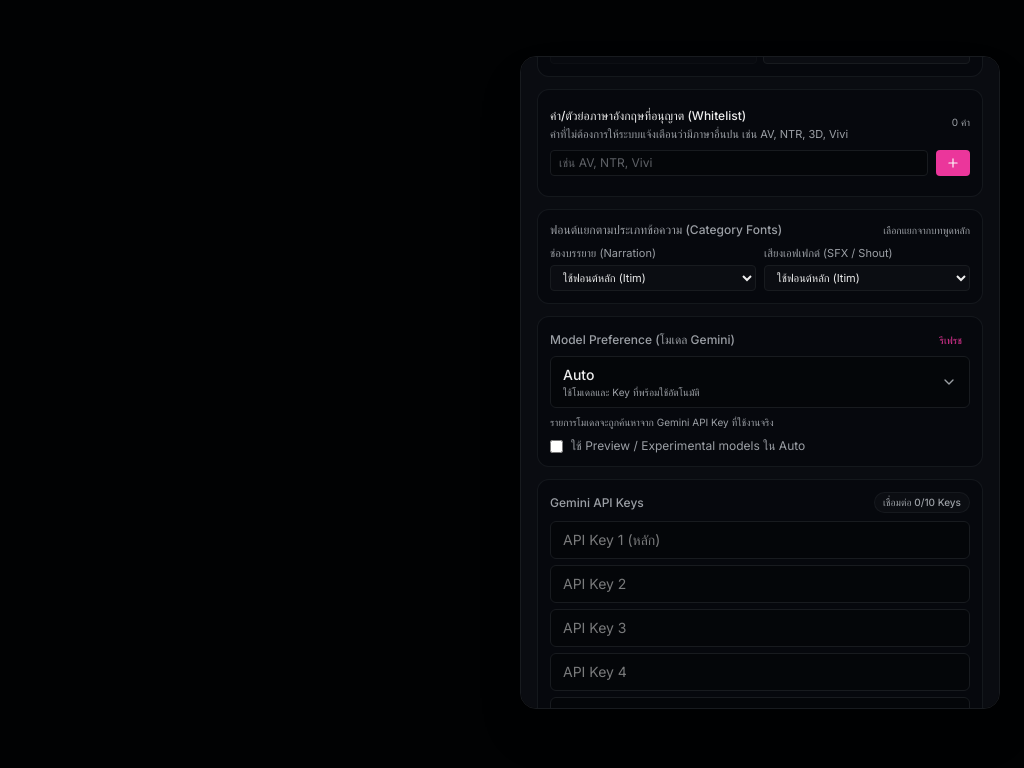
Test: SettingsModal dynamic Gemini catalog › offers only currently eligible image translation models for Manual selection
The image size is (1024, 768).
(page scrolled)
Click the button with aria-label "Model Preference". click: (579, 374)
box: [550,356,970,408]
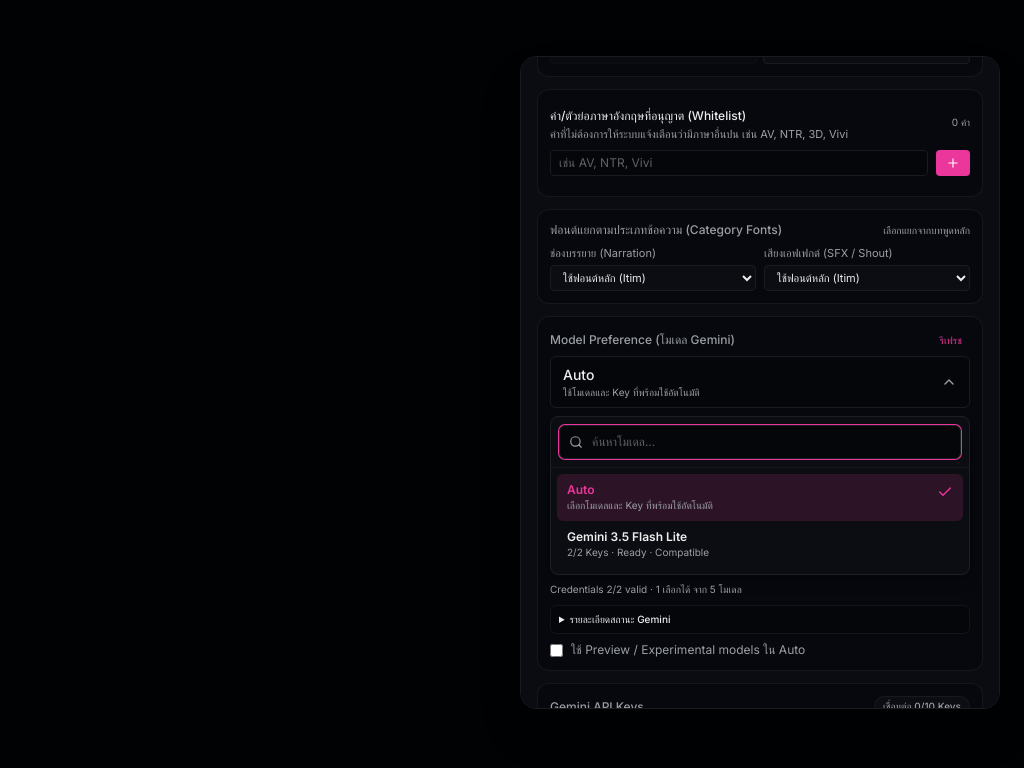
Check: the option "Gemini 3.5 Flash Lite 2/2 Keys · Ready · Compatible" is shown, box [557,521,963,568]
